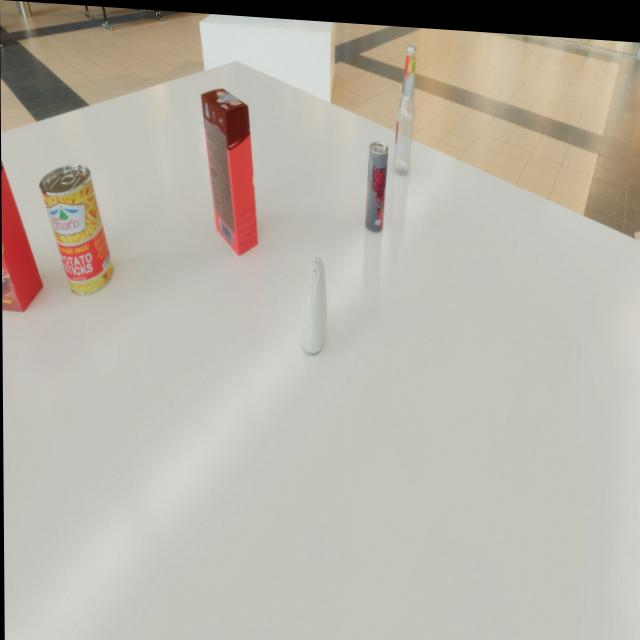Bottle: (392, 38, 417, 171)
HelloPanda: (201, 84, 258, 254)
Potato_sticks: (39, 161, 114, 296)
Rita_zero_sugar: (364, 136, 388, 228)
Salt: (300, 251, 327, 350)
